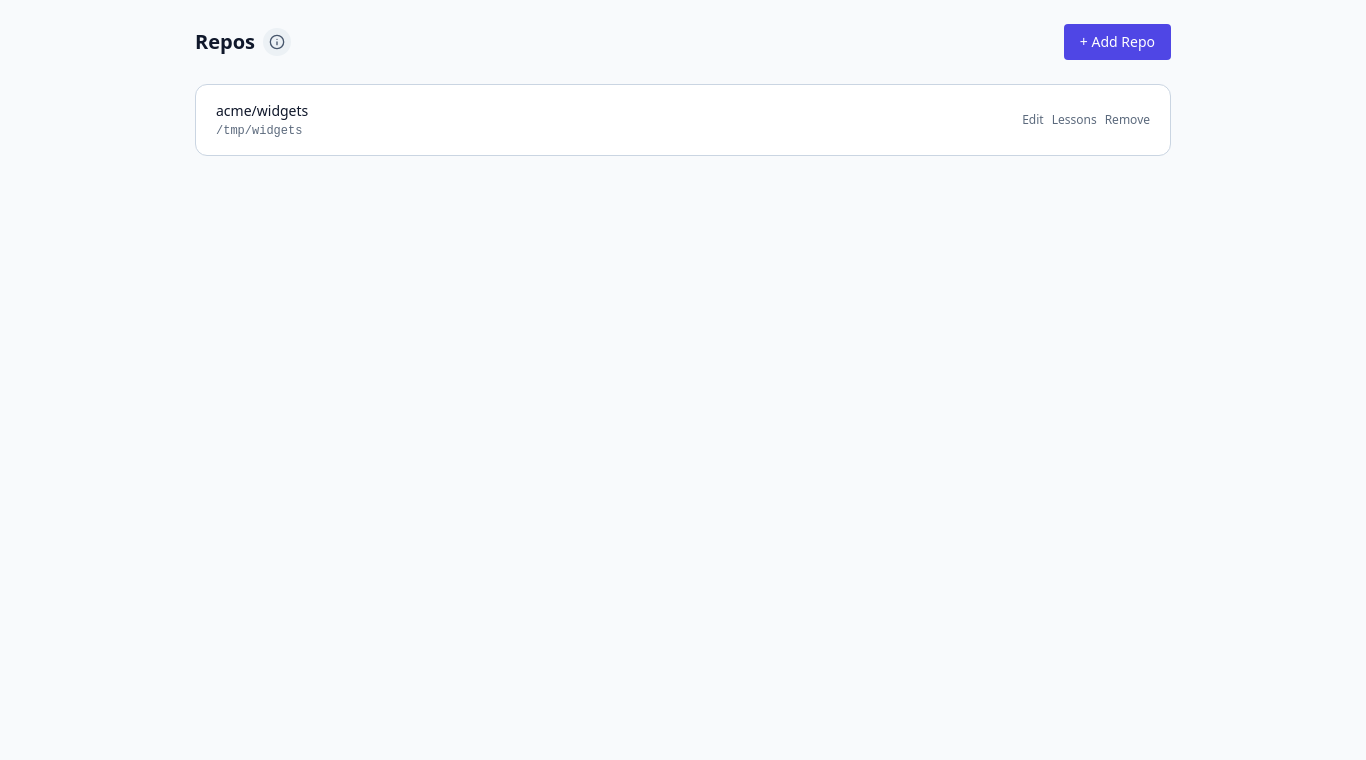
it: ReposPage — Agent runtime section › prevents adding duplicate languages by disabling already-used options
Expected: the text "acme/widgets" is shown, [216,101,308,120]
Click the button "+ Add Repo" at [1117, 42], box [1064,24,1171,60]
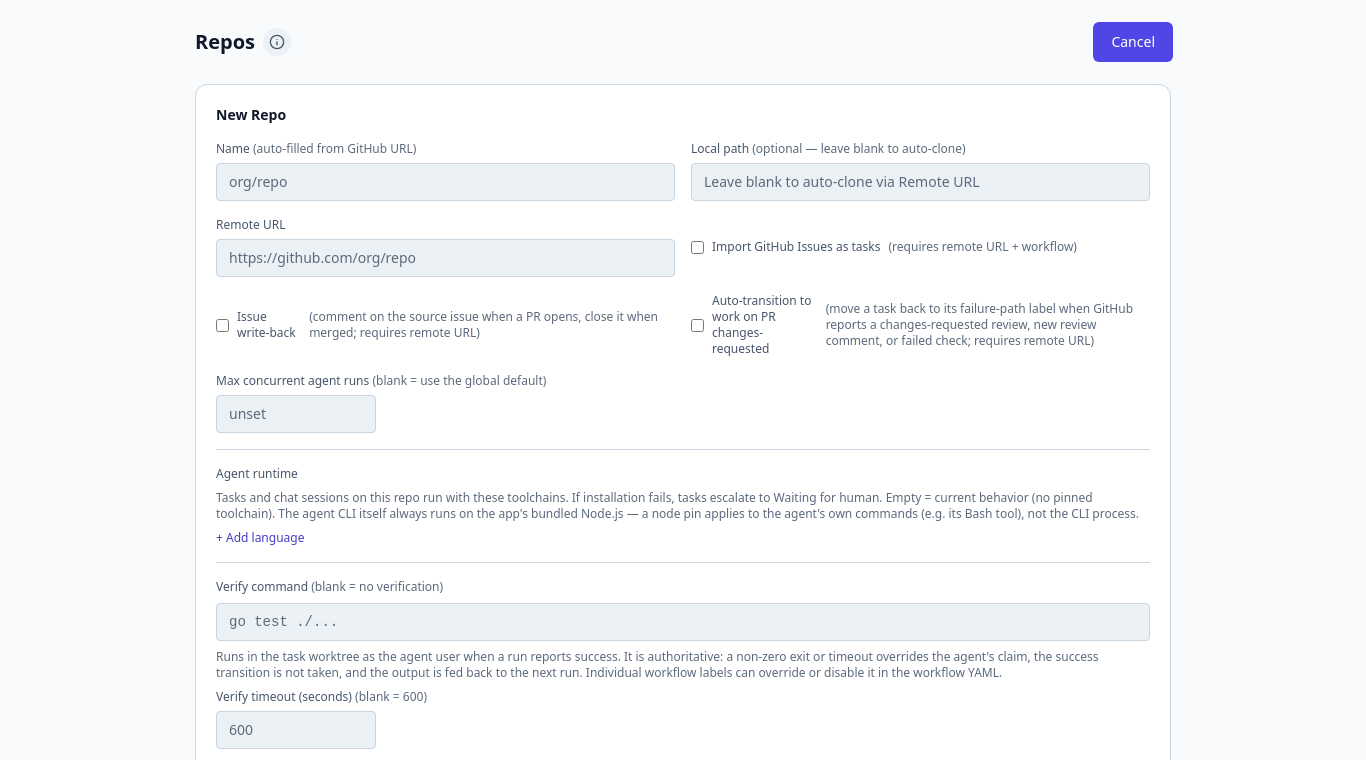
Click the button "+ Add language" at [260, 538], box [216,530,304,546]
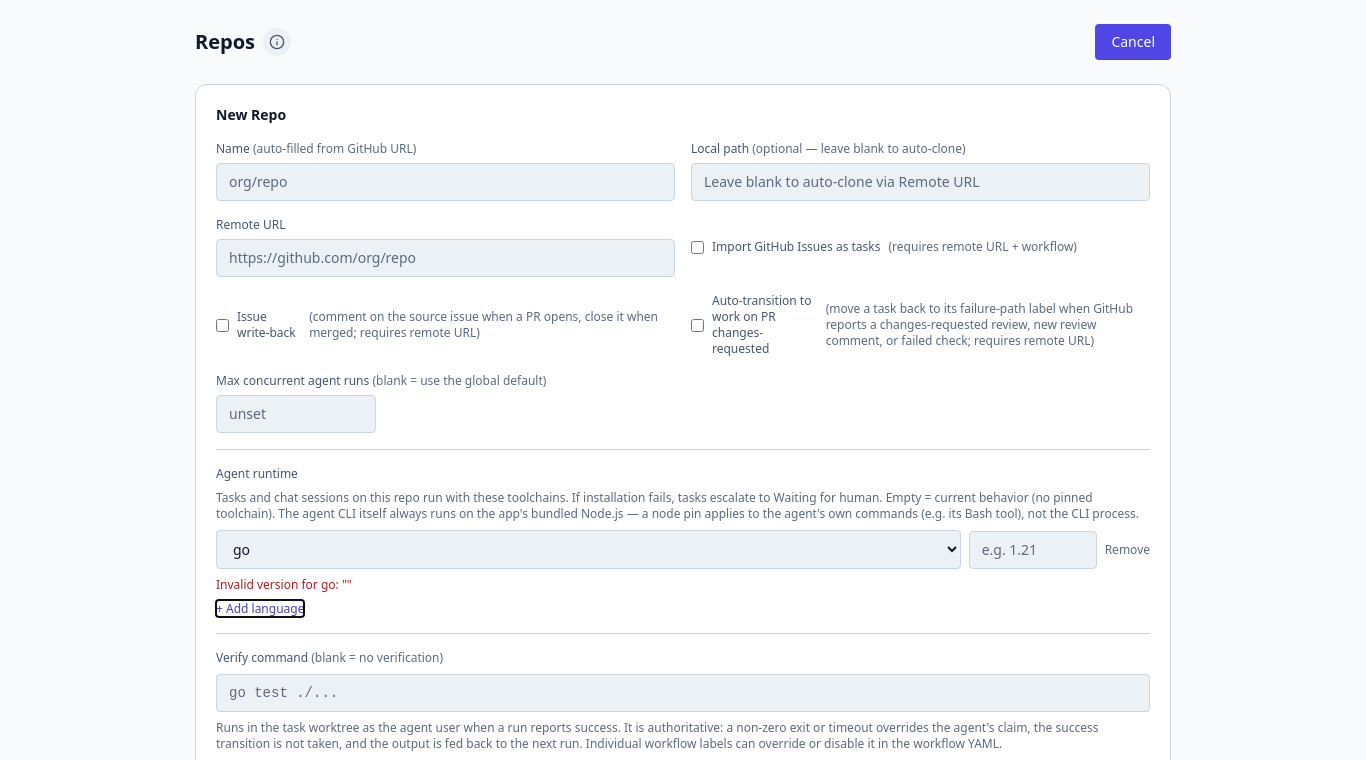
Expected: the dropdown shows "go", [216,530,961,569]
Click the button "+ Add language" at [260, 609], box [216,601,304,617]
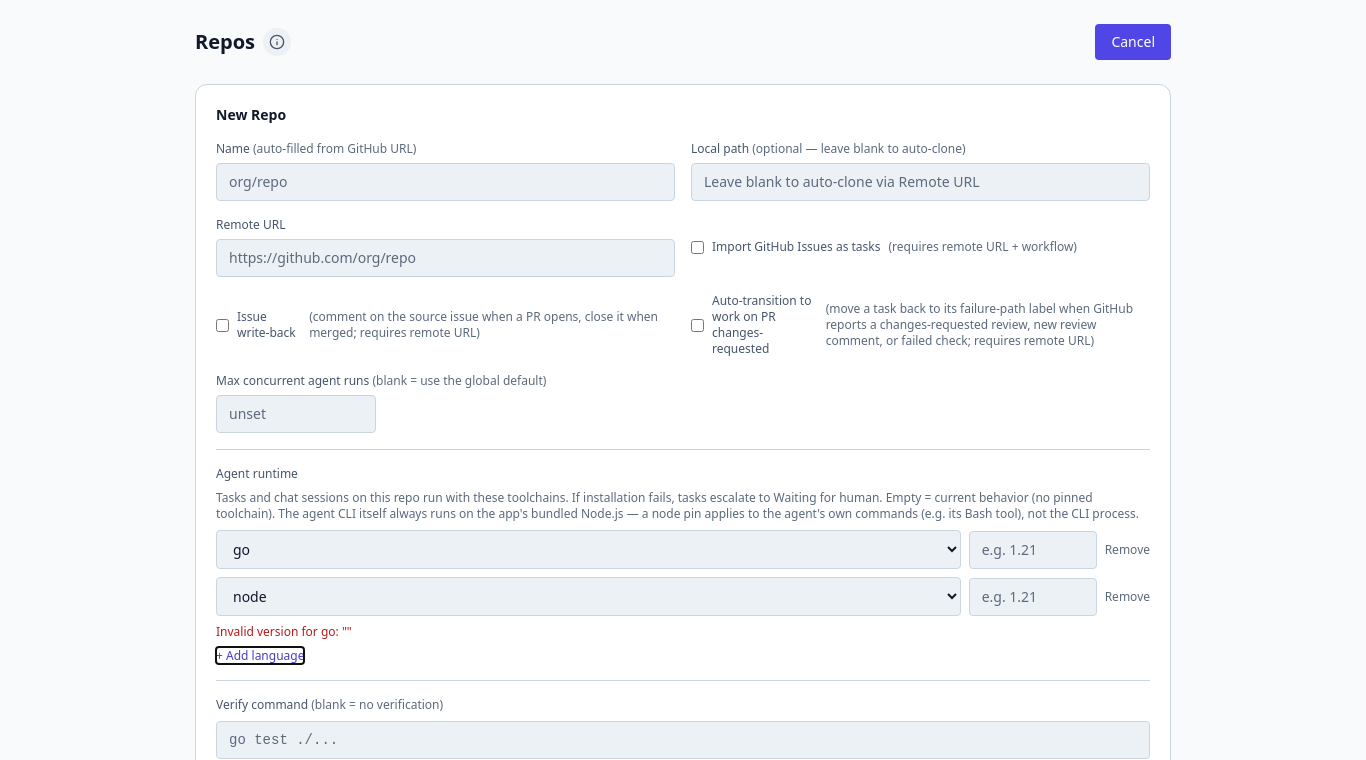
Expected: the 1st dropdown shows "go", [216,530,961,569]
Expected: the 2nd dropdown shows "node", [216,577,961,616]
